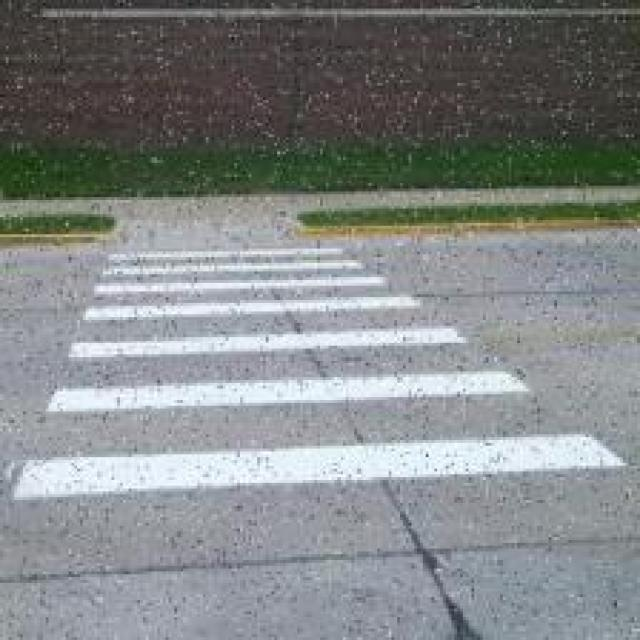crosswalk: (16, 240, 627, 503)
